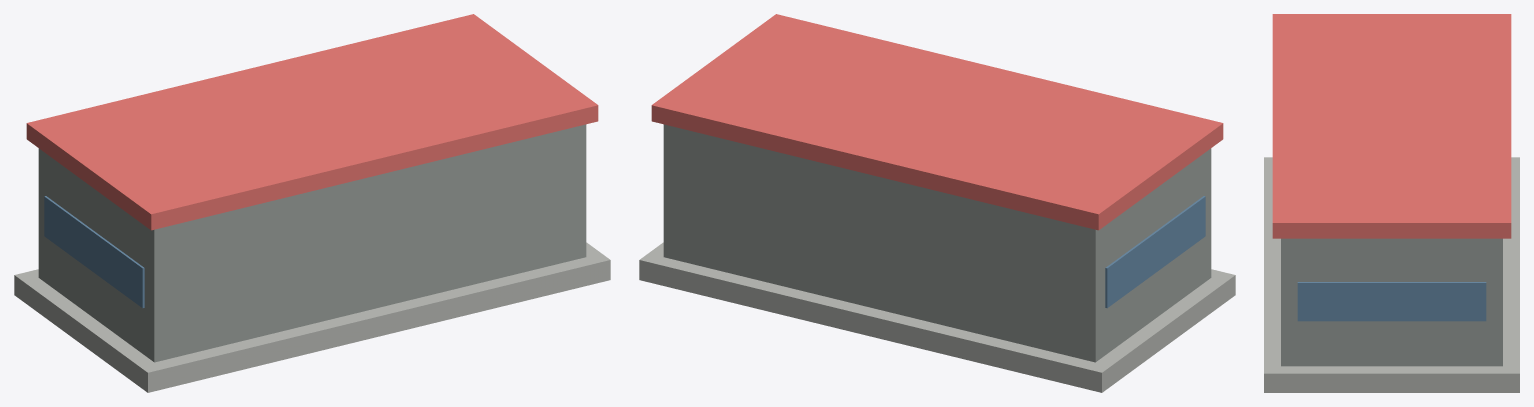
The model's file is diner_retro_roadside.glb.
3 views of the same model, side by side, from view 1: azimuth 30°, elevation 25°; view 2: azimuth 150°, elevation 25°; view 3: azimuth 270°, elevation 25° (orthographic). The views are drawn at different scales.
Parts seen in each view (by area): view 1: diner_retro_roadside; view 2: diner_retro_roadside; view 3: diner_retro_roadside.
Boxes of the visible parts, bbox=[...] form: diner_retro_roadside: bbox=[14, 14, 610, 392]; diner_retro_roadside: bbox=[639, 14, 1235, 392]; diner_retro_roadside: bbox=[1264, 14, 1519, 392].
Bounding box in the file's own units: 12 × 4.3 × 6.
